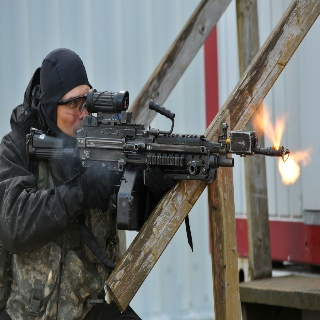rifle: (22, 85, 288, 232)
